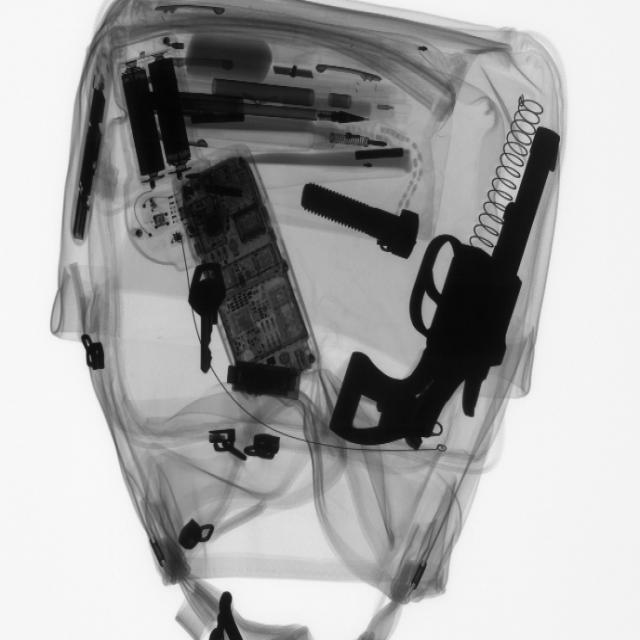GUN: (322, 134, 562, 463)
